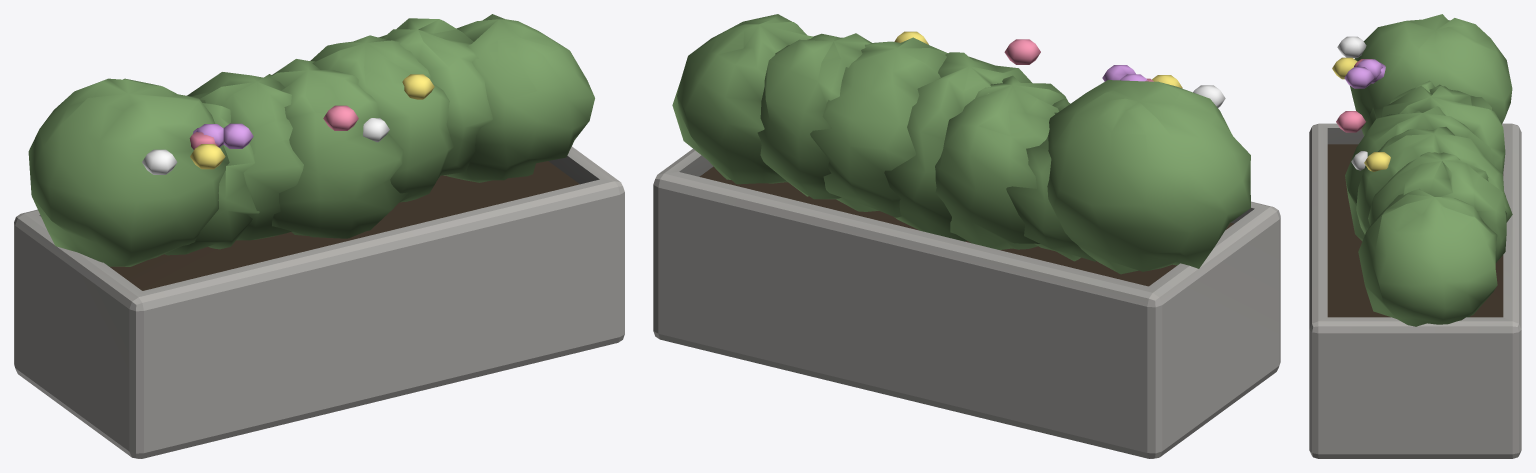
File: st_planter.glb
3 views of the same model, side by side, from view 1: azimuth 30°, elevation 25°; view 2: azimuth 150°, elevation 25°; view 3: azimuth 270°, elevation 25° (orthographic). The views are drawn at different scales.
Visible parts, largest first — view 1: body; view 2: body; view 3: body.
Part boxes in pixels (left/top/right/bottom): body: left=14, top=14, right=624, bottom=458; body: left=653, top=14, right=1280, bottom=458; body: left=1309, top=14, right=1521, bottom=458.
Size of the model in its own units: 1.75 by 0.9526 by 0.7.
